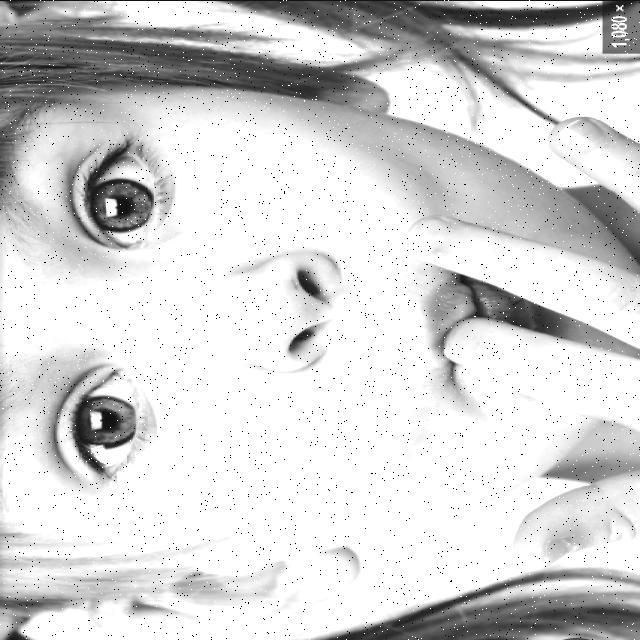face_no_mask: (0, 50, 630, 624)
